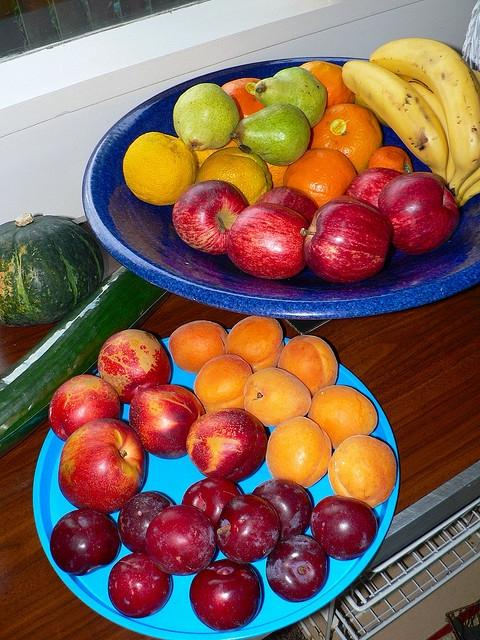apple: (58, 418, 146, 515), (301, 199, 393, 283), (377, 171, 460, 255), (227, 202, 310, 280), (186, 408, 268, 484), (172, 179, 248, 256), (129, 384, 206, 460), (98, 329, 170, 405), (146, 504, 216, 576), (49, 374, 122, 442), (50, 508, 121, 576), (310, 495, 377, 561), (108, 552, 172, 618), (252, 477, 313, 540), (117, 492, 174, 552), (182, 476, 242, 530), (254, 186, 320, 224), (344, 167, 404, 208)
cucumber: (1, 265, 171, 458)
orange: (307, 103, 384, 176), (123, 132, 197, 206), (194, 147, 272, 206), (283, 148, 356, 208), (300, 60, 356, 108), (178, 136, 238, 174), (221, 78, 265, 122), (368, 146, 414, 173), (263, 160, 289, 189)
pear: (235, 104, 311, 166), (172, 83, 239, 151), (255, 67, 327, 130)
